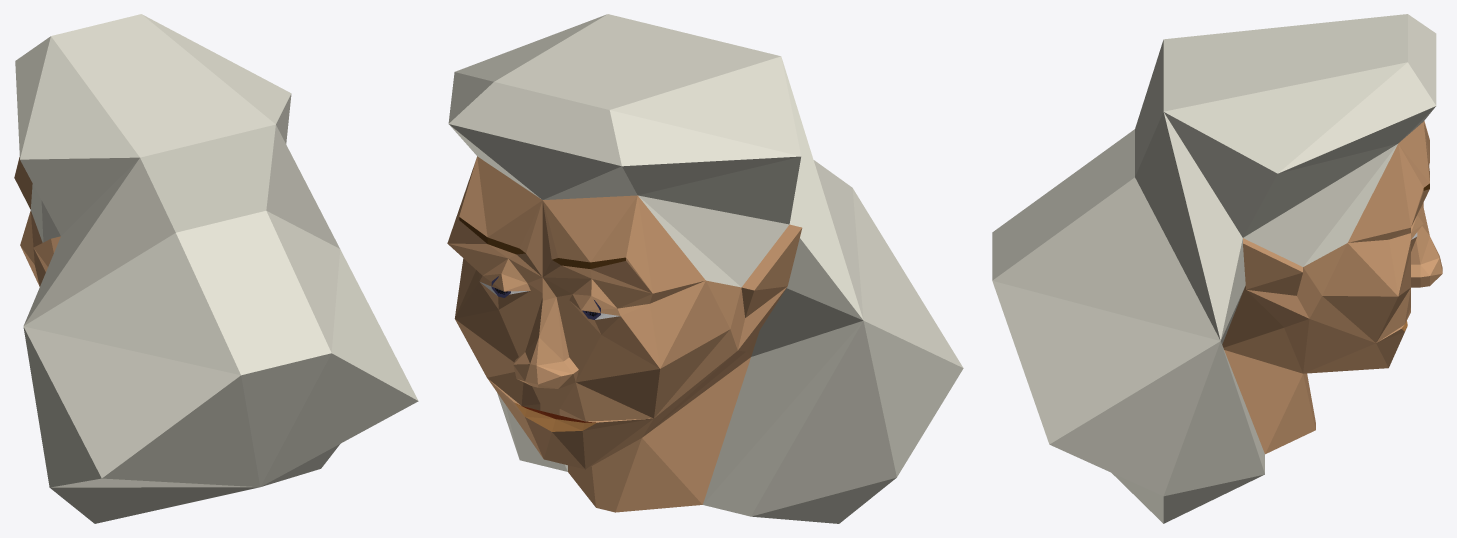
Rendered from npc_chat_fairy_2_0.obj.
The picture shows the model from 3 angles, left to right: view 1: azimuth 30°, elevation 25°; view 2: azimuth 150°, elevation 25°; view 3: azimuth 270°, elevation 25°; orthographic projection. The views are drawn at different scales.
Size of the model in its own units: 0.9844 by 1.16 by 1.11.
